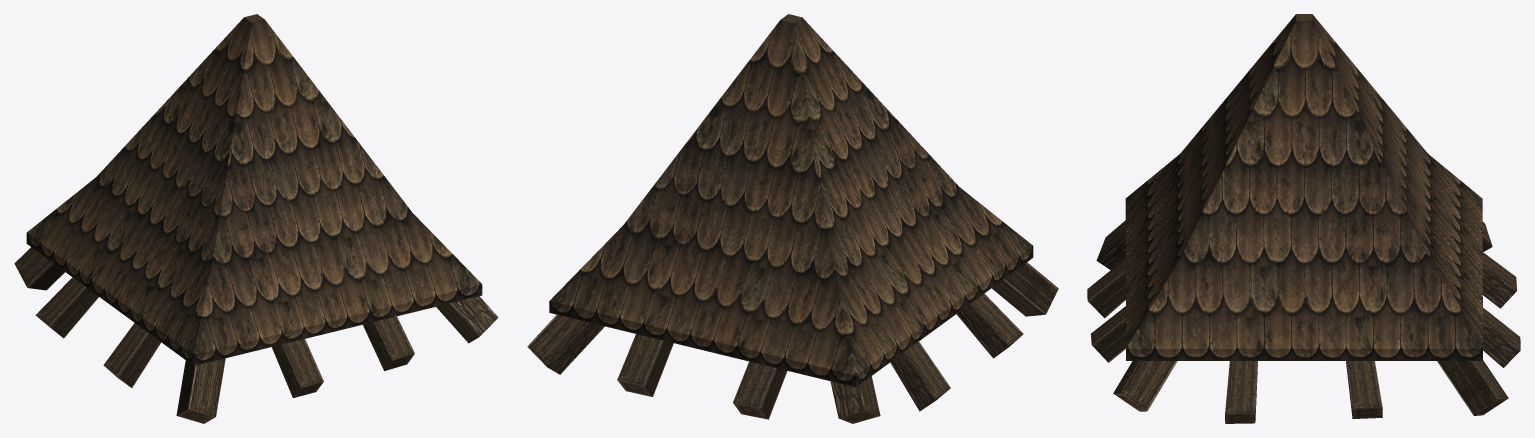
Rendered from Roof_4X4_03b.fbx.
3 renders of one model, left to right at view 1: azimuth 30°, elevation 25°; view 2: azimuth 150°, elevation 25°; view 3: azimuth 270°, elevation 25°, orthographic. The views are drawn at different scales.
Parts seen in each view (by area): view 1: Roof_4X4_03b; view 2: Roof_4X4_03b; view 3: Roof_4X4_03b.
Boxes of the visible parts, x1,y1,x2,y2 form: Roof_4X4_03b: (14, 14, 498, 423); Roof_4X4_03b: (527, 14, 1058, 423); Roof_4X4_03b: (1087, 14, 1520, 423).
Bounding box in the file's own units: 5.87 × 4.9 × 5.81.
